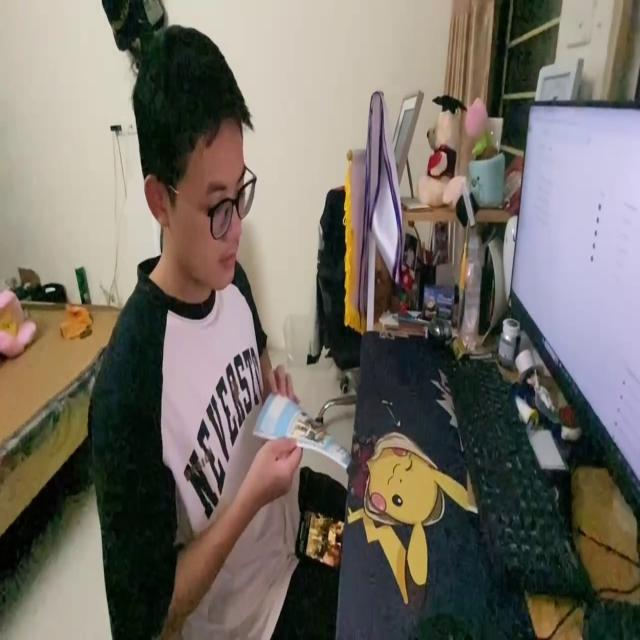book: (253, 388, 355, 486)
laptop: (505, 97, 640, 522)
phone: (292, 497, 342, 572)
student: (85, 24, 342, 640)
